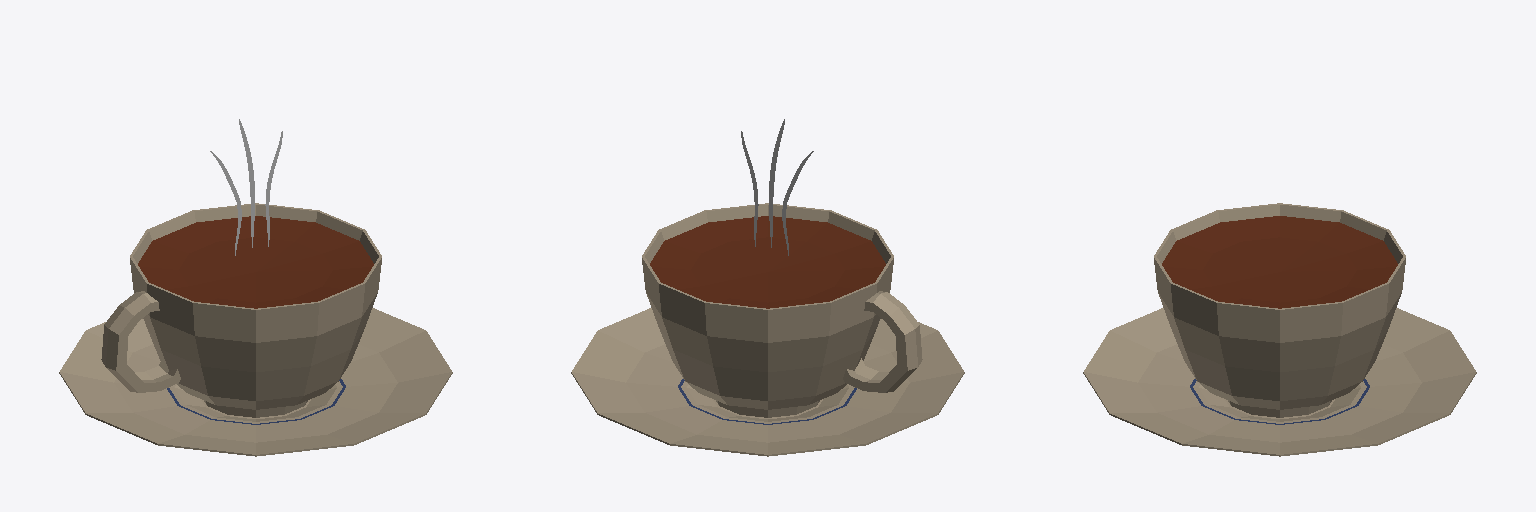
File: teacup.obj
3 views of the same model, side by side, from view 1: azimuth 30°, elevation 25°; view 2: azimuth 150°, elevation 25°; view 3: azimuth 270°, elevation 25° (orthographic).
Visible parts, largest first — view 1: pCylinder4; view 2: pCylinder4; view 3: pCylinder4.
Part boxes in pixels (x1,y1,x2,y2): pCylinder4: (59,119,452,456); pCylinder4: (571,119,964,456); pCylinder4: (1083,203,1476,456).
Bounding box in the file's own units: 5.64 × 4.51 × 5.64.